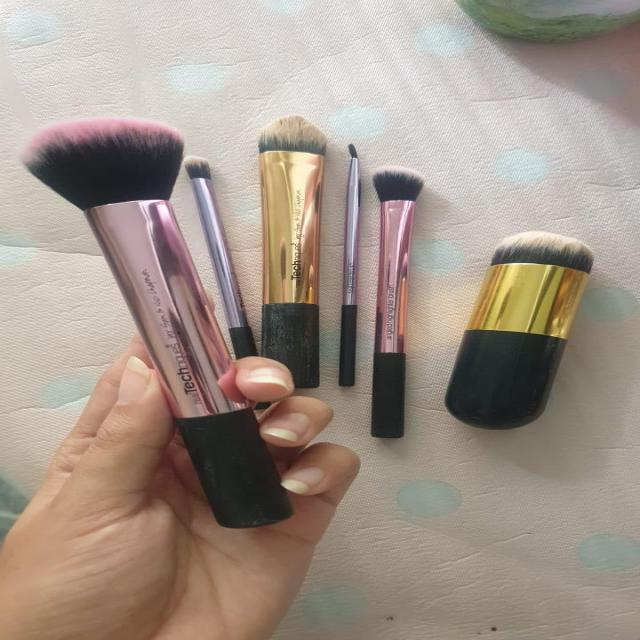brush: (13, 109, 439, 533), (1, 106, 228, 354), (431, 218, 620, 442), (241, 106, 338, 347), (362, 154, 435, 427), (173, 150, 230, 257)
